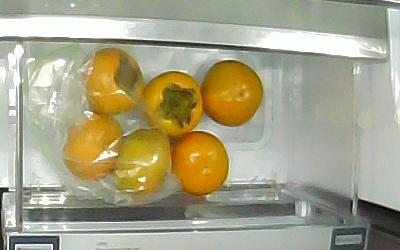persimmon: (201, 59, 264, 128), (142, 70, 203, 137), (173, 132, 229, 196)
persimmon_vinyl: (84, 47, 145, 116), (64, 115, 123, 181), (114, 128, 171, 196)
